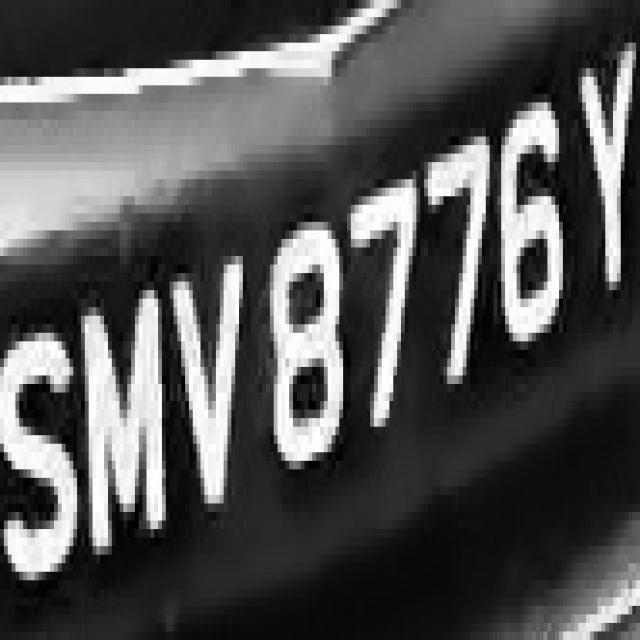6: (490, 86, 563, 342)
7: (335, 145, 428, 452), (412, 136, 509, 410)
8: (266, 205, 355, 503)
M: (65, 282, 174, 572)
S: (16, 299, 77, 614)
V: (162, 239, 251, 529)
Y: (571, 34, 636, 299)
